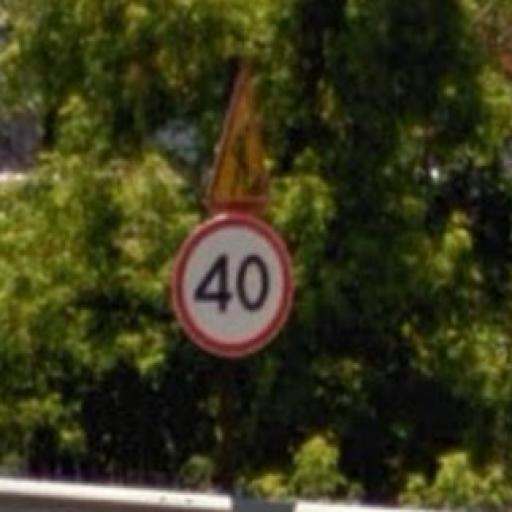traffic_sign: (172, 213, 294, 359), (207, 70, 275, 212)
